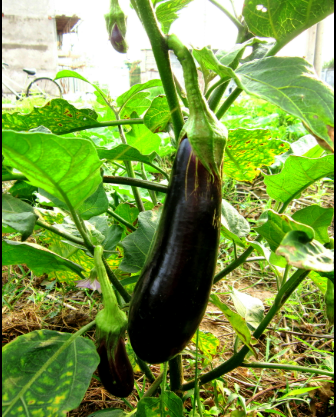catim: (124, 32, 232, 376), (79, 240, 143, 407), (100, 11, 138, 57)
